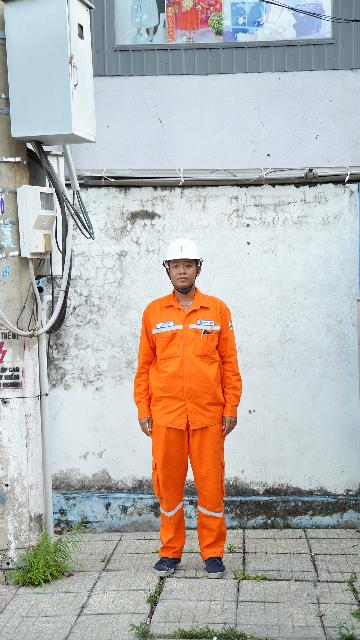helmet: (151, 230, 212, 270)
shoes: (137, 538, 185, 583), (200, 550, 235, 584)
